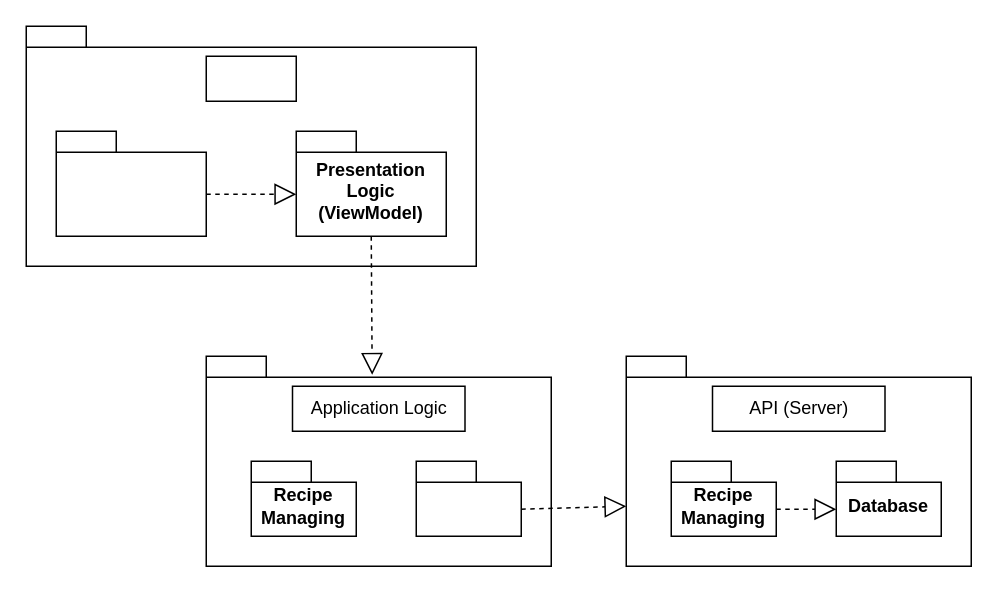
Image size: 998x593. Some labels were removed from this diagram. Each missing label, with the centre of its shape:
Frontend: pixel 250 78
Online Managing: pixel 468 498
User Interface (View): pixel 130 183
